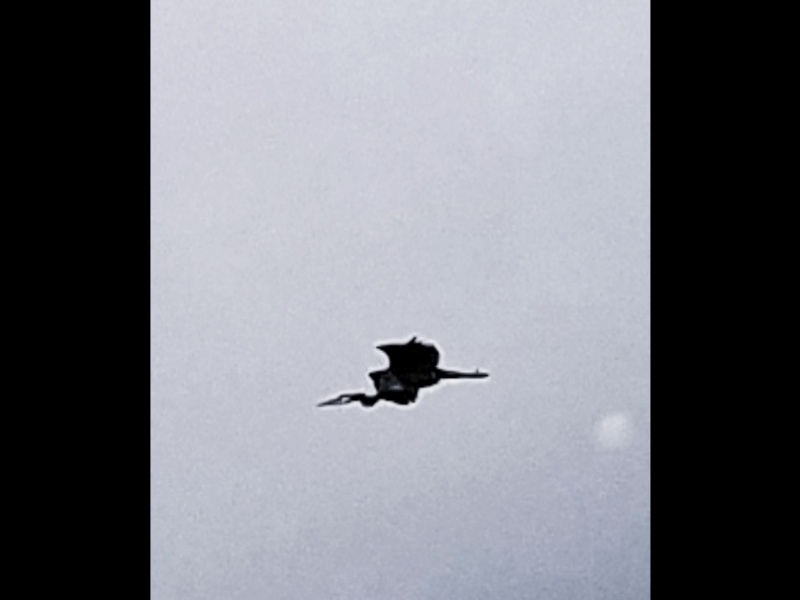heron: (310, 331, 490, 415)
